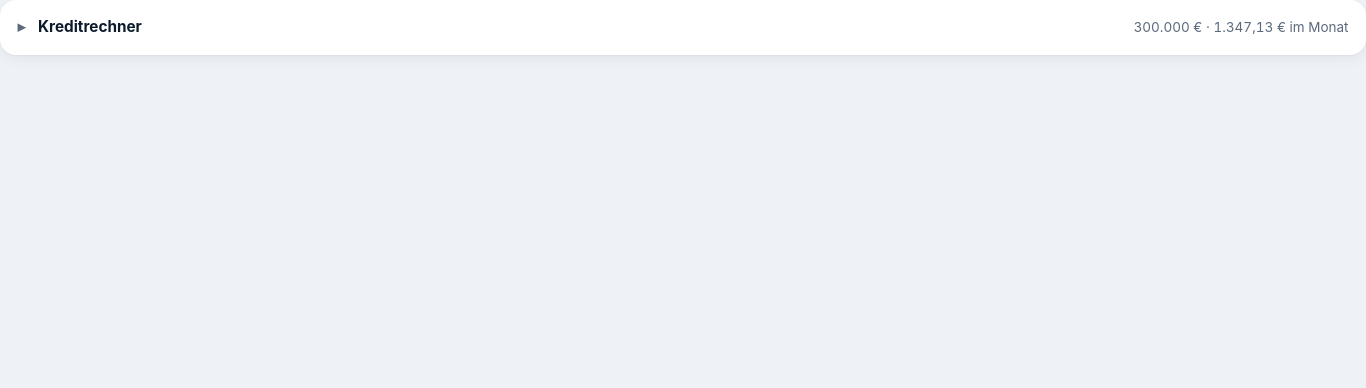
Test: Kreditrechner (Finanzen) › eigene Summe und zurück zum Plan
Click the button "▸ Kreditrechner". click: {"x": 80, "y": 27}
box: [18,16,142,39]
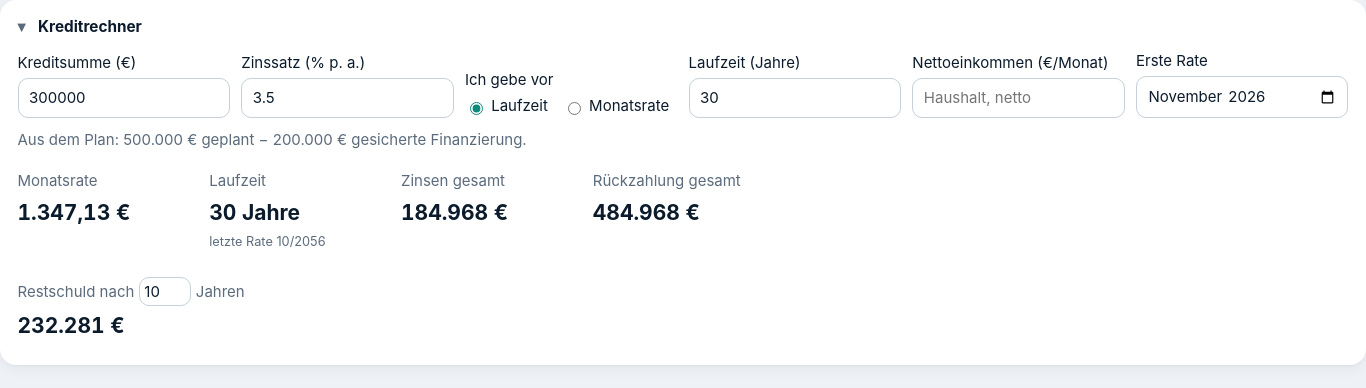
Replace the text in the number field labelled "Kreditsumme" with "120000". click: {"x": 124, "y": 98}
box: [18,78,230,118]
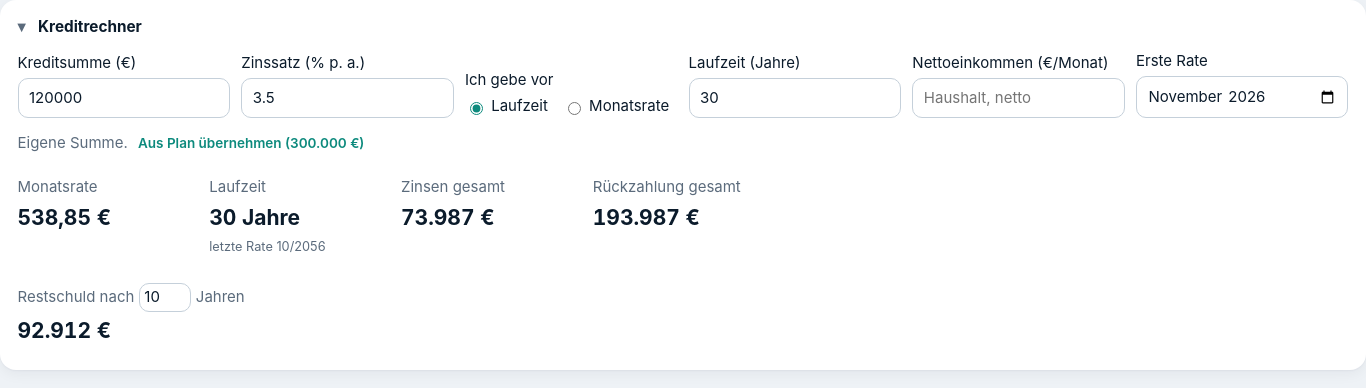
Expected: the text "Eigene Summe. Aus Plan übernehmen (300.000 €)" is shown, [18,129,370,157]
Click the button "Aus Plan übernehmen (300.000 €)". click: {"x": 251, "y": 143}
box: [132,129,370,157]
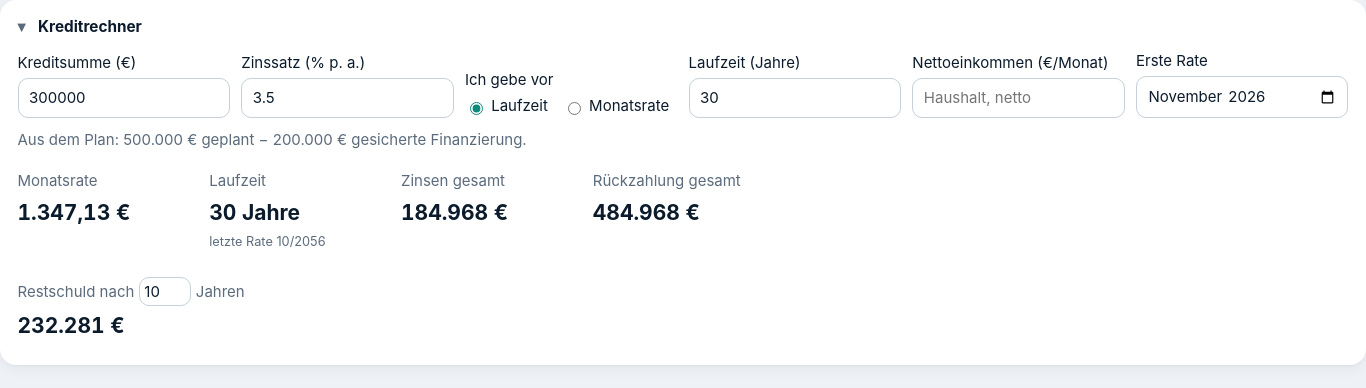
Expected: the number field labelled "Kreditsumme" holds "300000", [18,78,230,118]
